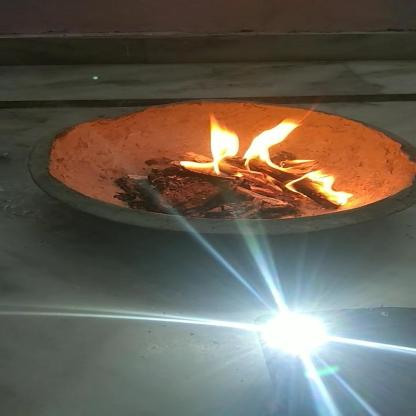fire: (174, 110, 312, 172), (291, 166, 354, 206)
